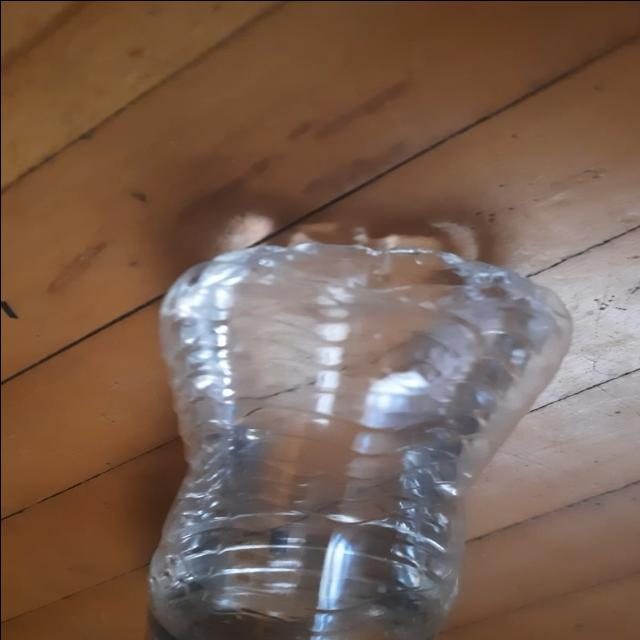Plastic: (146, 218, 573, 640)
